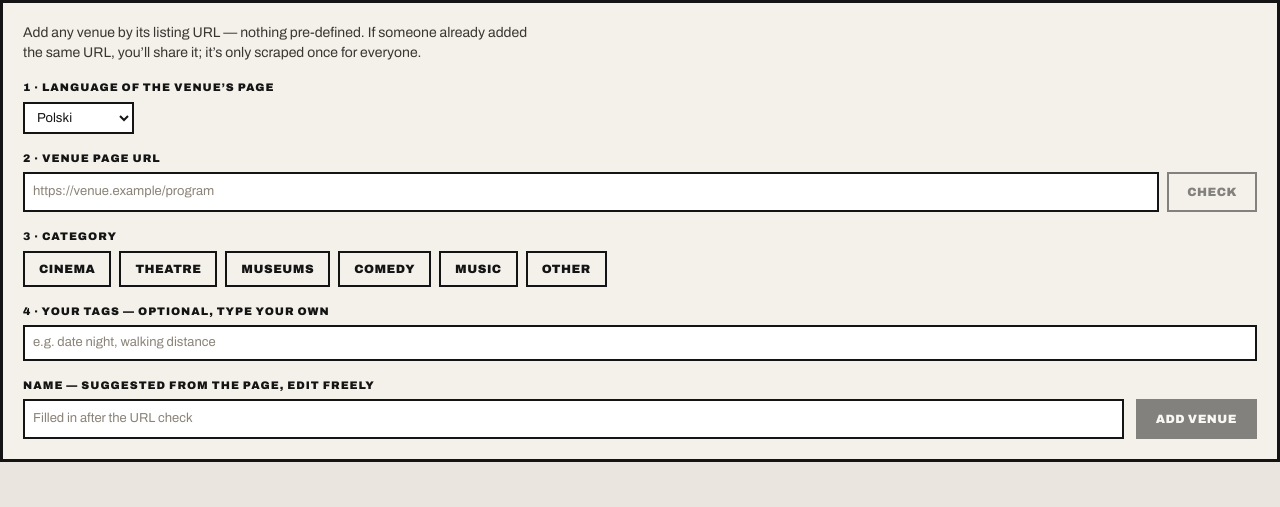
AddVenueForm — failures render by severity, never raw › shows a fatal failure in the accent colour
Type "https://facebook.com/teatr" into the field labelled "2 · Venue page URL" at coordinates (591, 192), box x1=23 y1=172 x2=1159 y2=212
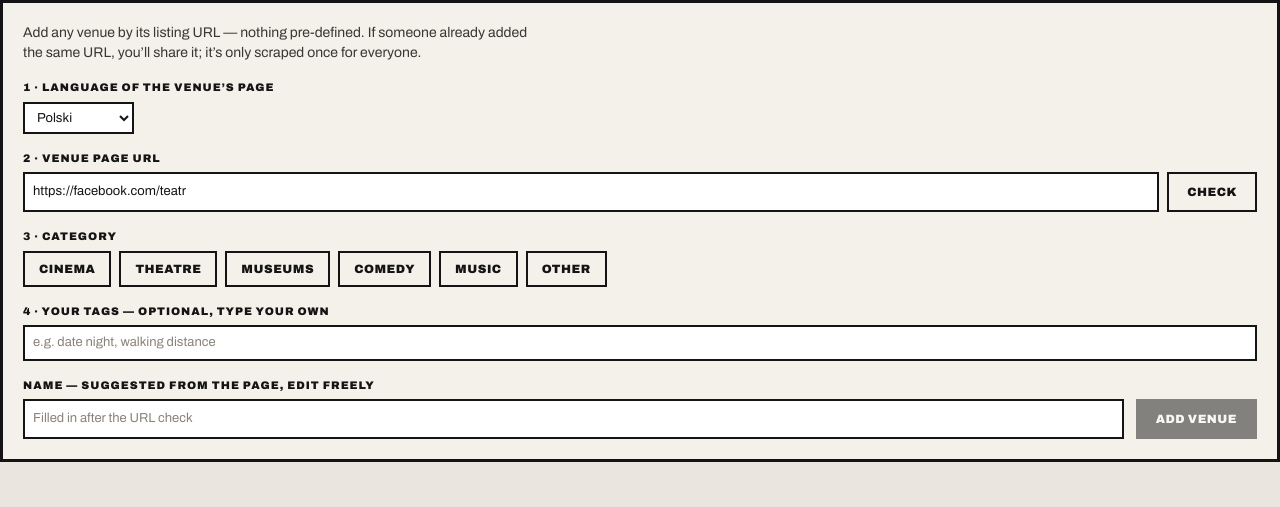
Click the button "Check" at coordinates (1212, 192), box x1=1167 y1=172 x2=1257 y2=212
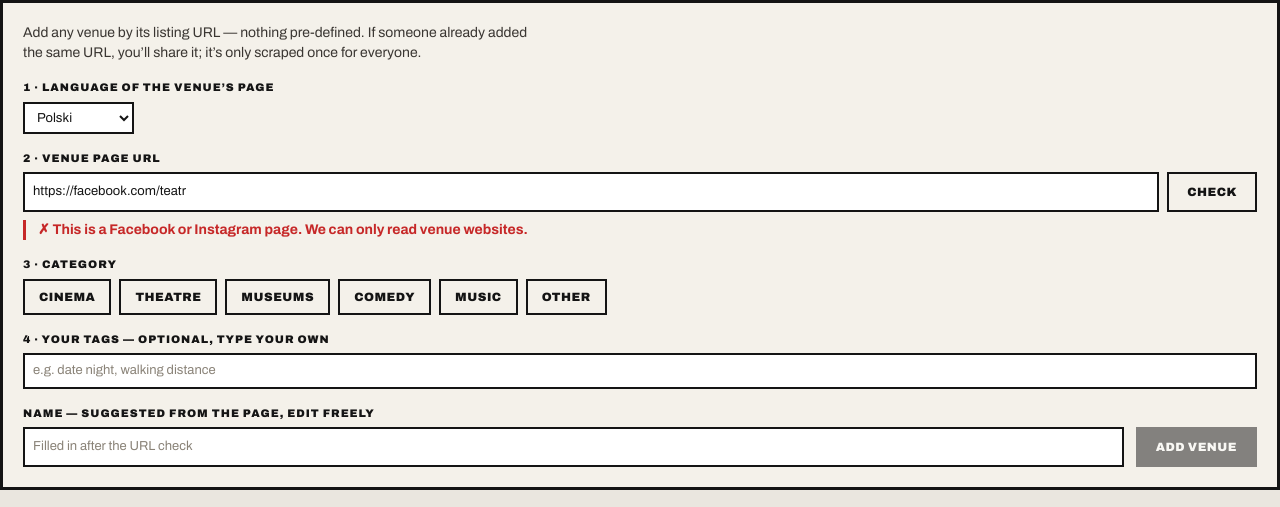
Now the message shows "Facebook or Instagram", box x1=52 y1=222 x2=528 y2=237
